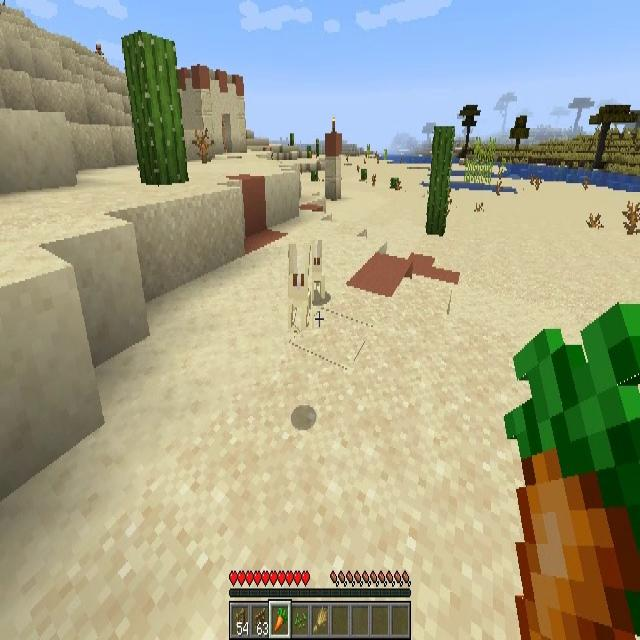rabbit: (288, 244, 312, 330), (308, 239, 329, 301)
